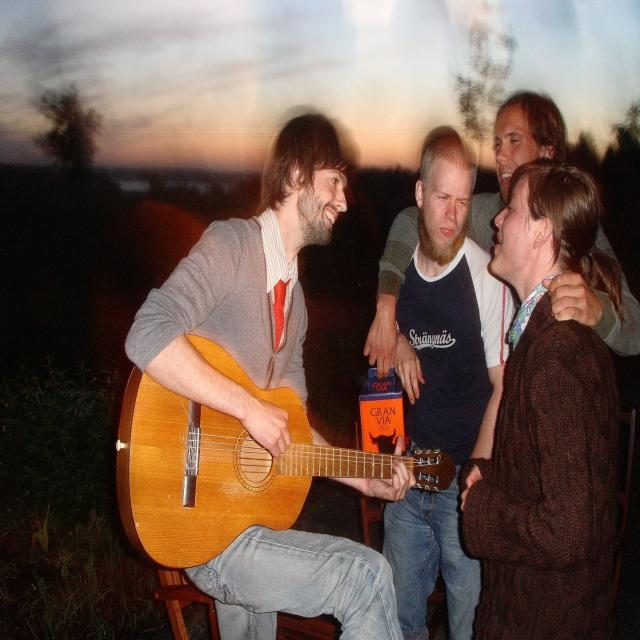guitar: (115, 333, 458, 572)
